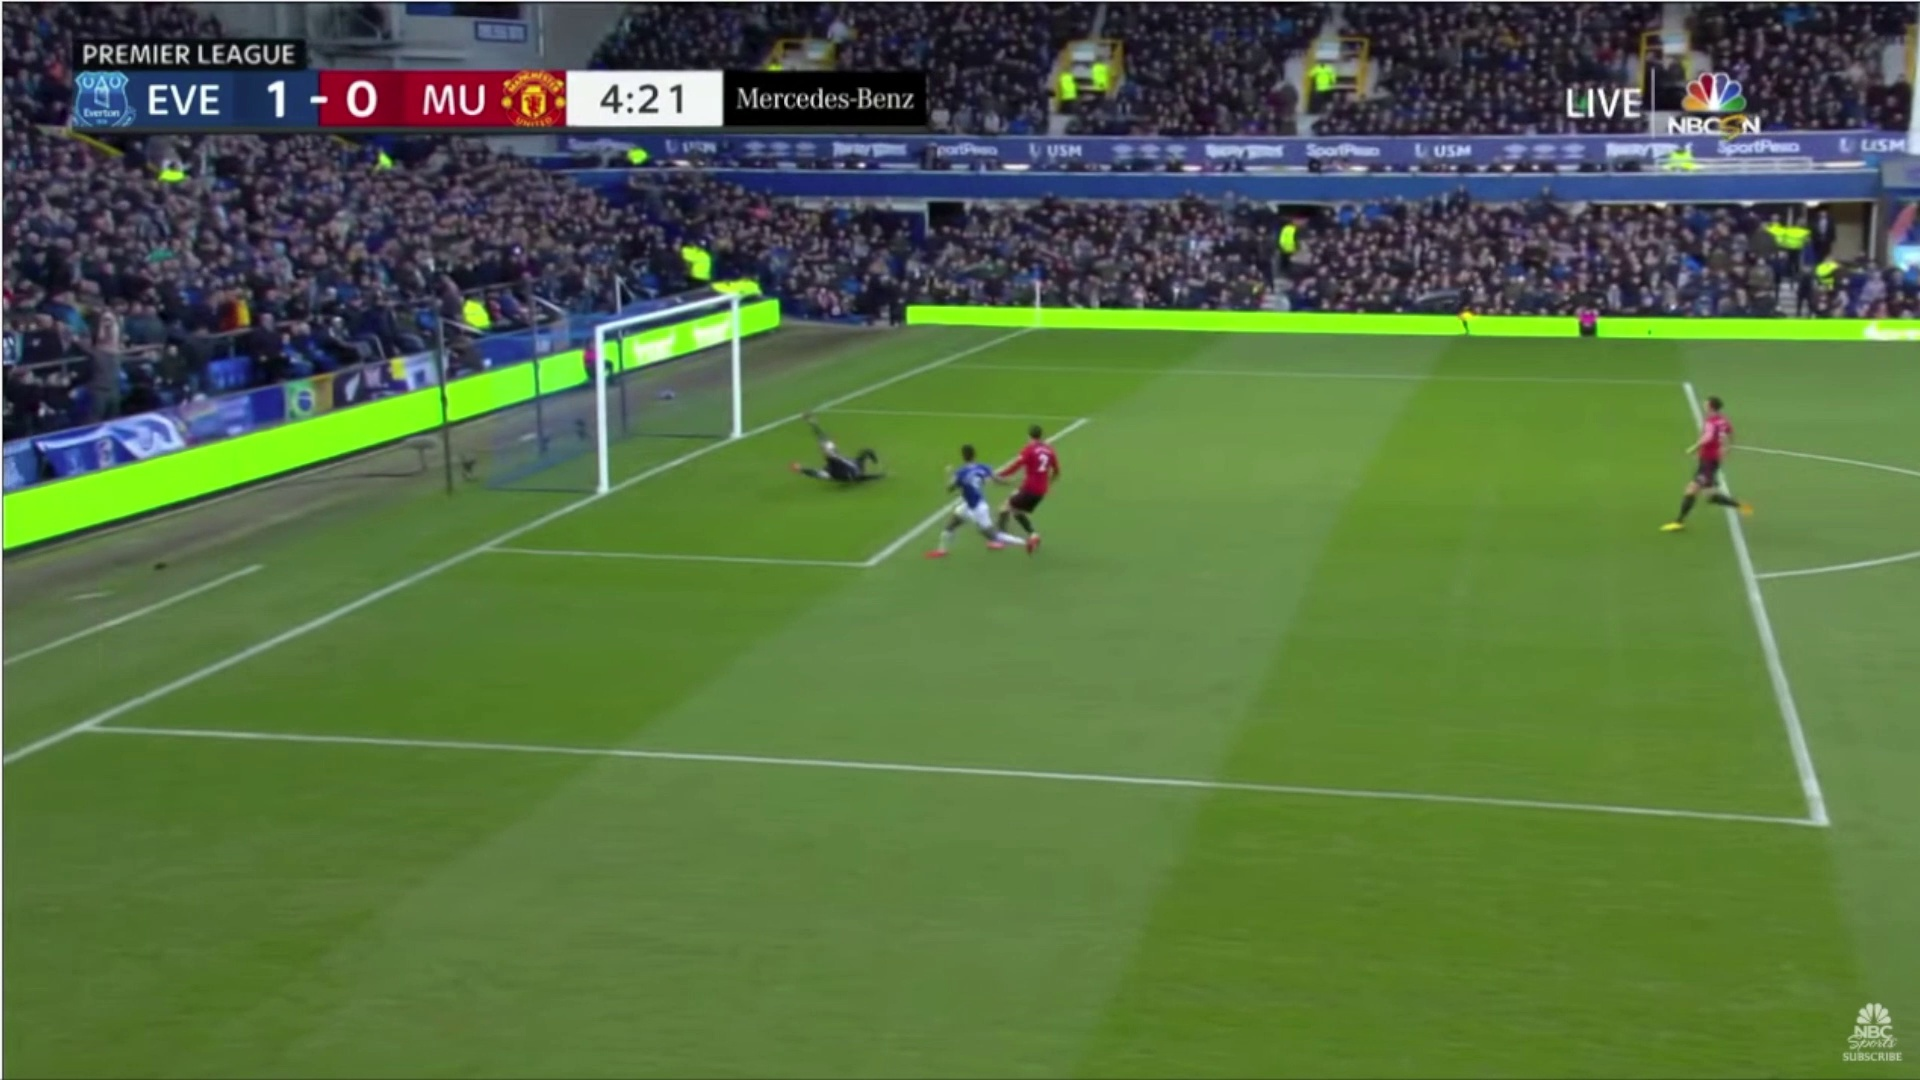player: (1660, 371, 1752, 546), (756, 400, 897, 502), (924, 433, 1008, 585), (1002, 412, 1074, 565)
